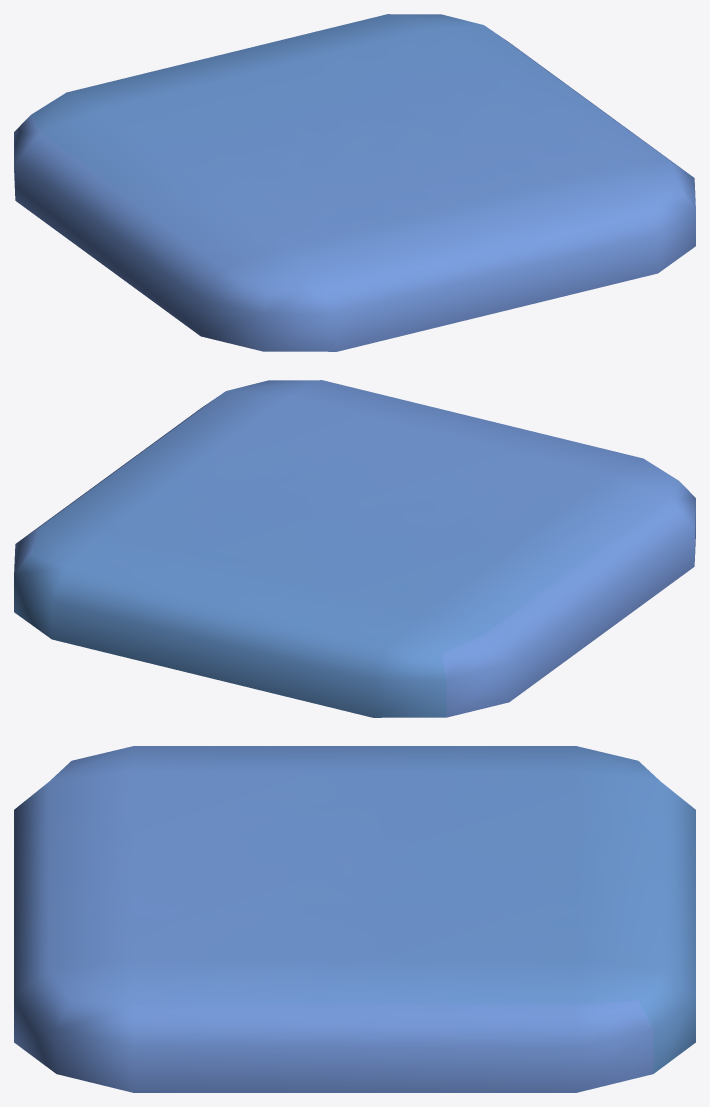
Rendered from SM_FloorTile_01.fbx.
The picture shows the model from 3 angles, top to bottom: view 1: azimuth 30°, elevation 25°; view 2: azimuth 150°, elevation 25°; view 3: azimuth 270°, elevation 25°; orthographic projection. The views are drawn at different scales.
Visible parts, largest first — view 1: SM_FloorTile_01; view 2: SM_FloorTile_01; view 3: SM_FloorTile_01.
Part boxes in pixels (x1,y1,x2,y2): SM_FloorTile_01: (14, 14, 695, 351); SM_FloorTile_01: (14, 380, 695, 717); SM_FloorTile_01: (14, 746, 695, 1092).
Size of the model in its own units: 1 by 0.1341 by 1.
